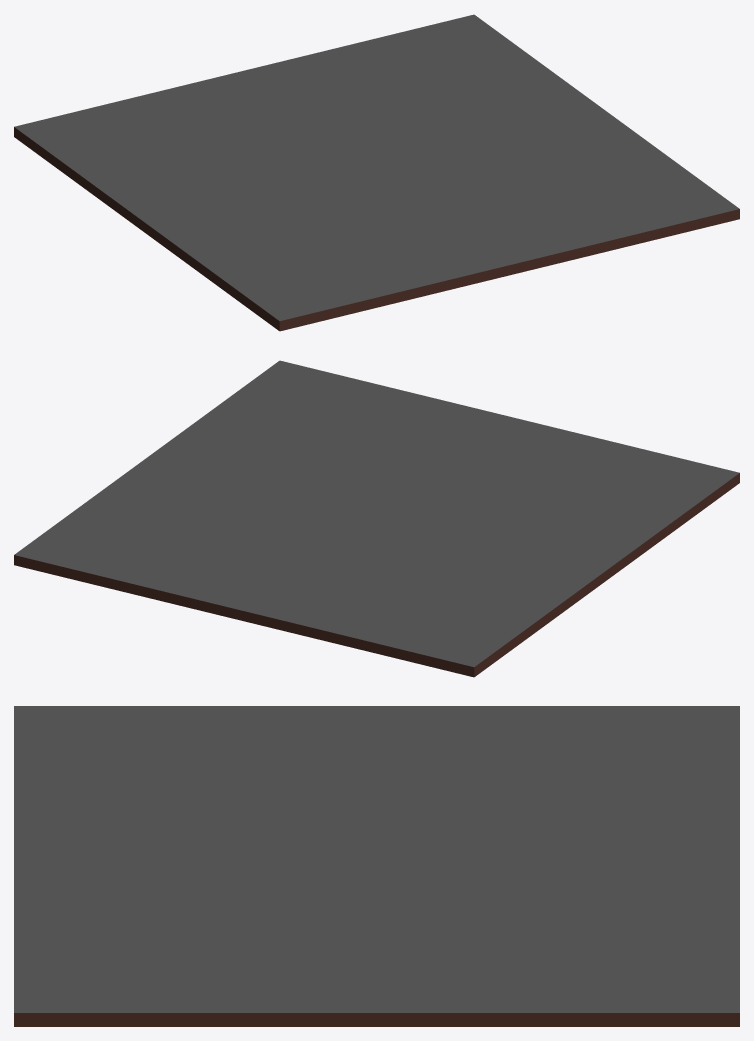
Rendered from roof-a.glb.
3 views of the same model, one above another, from view 1: azimuth 30°, elevation 25°; view 2: azimuth 150°, elevation 25°; view 3: azimuth 270°, elevation 25° (orthographic). The views are drawn at different scales.
Visible parts, largest first — view 1: Roof A (×2); view 2: Roof A (×2); view 3: Roof A (×2).
Part boxes in pixels (left/top/right/bottom): Roof A (×2): left=14, top=14, right=739, bottom=331; Roof A (×2): left=14, top=360, right=739, bottom=677; Roof A (×2): left=14, top=706, right=739, bottom=1026.
Bounding box in the file's own units: 3.3 × 0.0699 × 3.3.
